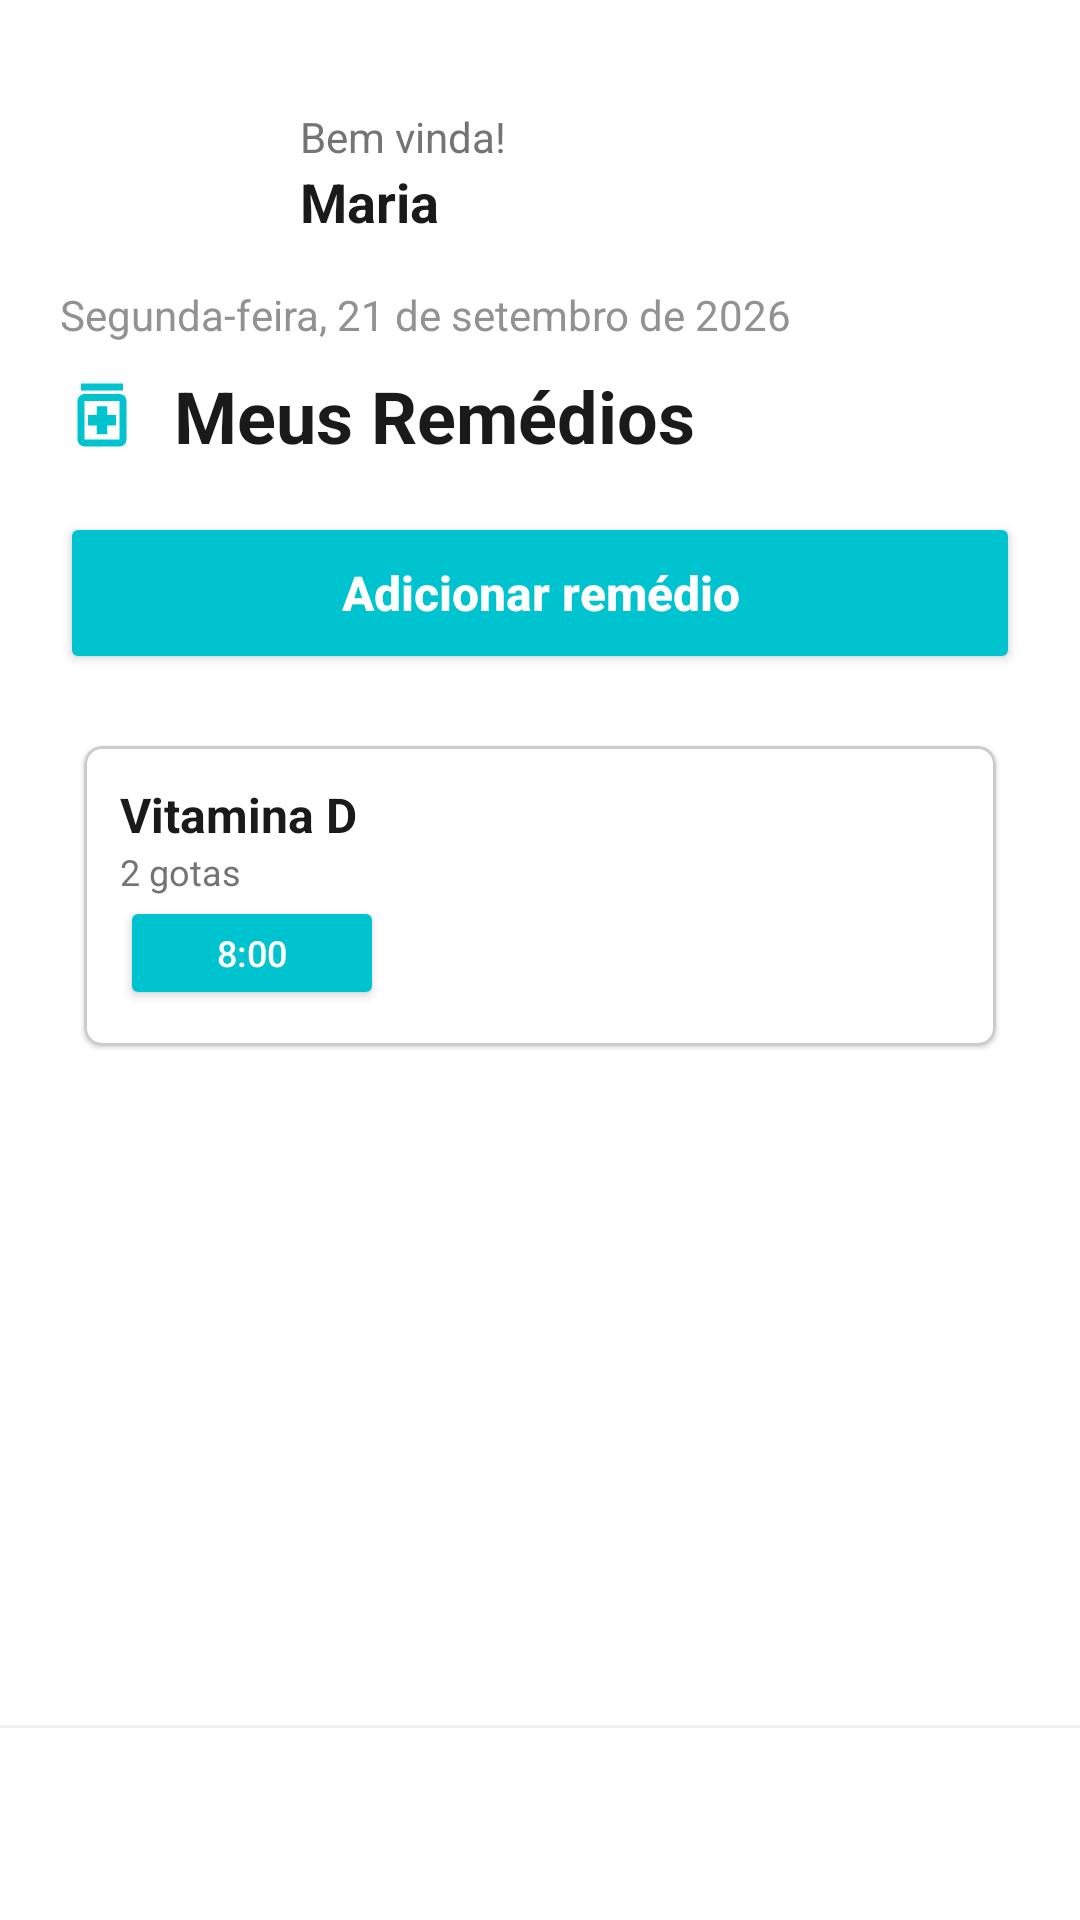

Icon bounding boxes for this 1080*1920 phone screenshot, format [x1, y1, x2, y2]:
pill: [77, 383, 127, 447]
